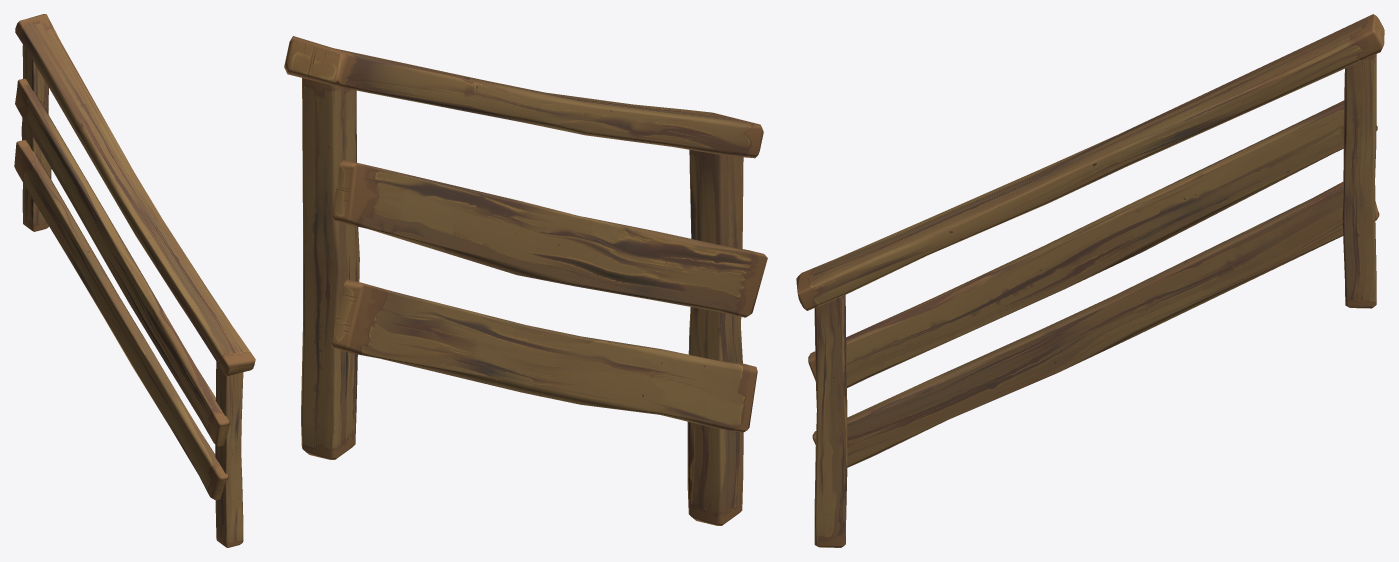
Rendered from SM_MOD_railing_town_01_01.fbx.
3 views of the same model, side by side, from view 1: azimuth 30°, elevation 25°; view 2: azimuth 150°, elevation 25°; view 3: azimuth 270°, elevation 25° (orthographic). The views are drawn at different scales.
Visible parts, largest first — view 1: SM_MOD_railing_town_01_01_LOD0; view 2: SM_MOD_railing_town_01_01_LOD0; view 3: SM_MOD_railing_town_01_01_LOD0.
Boxes of the visible parts, bbox=[...] form: SM_MOD_railing_town_01_01_LOD0: bbox=[14, 14, 255, 547]; SM_MOD_railing_town_01_01_LOD0: bbox=[284, 36, 767, 525]; SM_MOD_railing_town_01_01_LOD0: bbox=[796, 14, 1384, 547].
Size of what is drawn, in the model's own units: 18.53 by 198 by 202.
